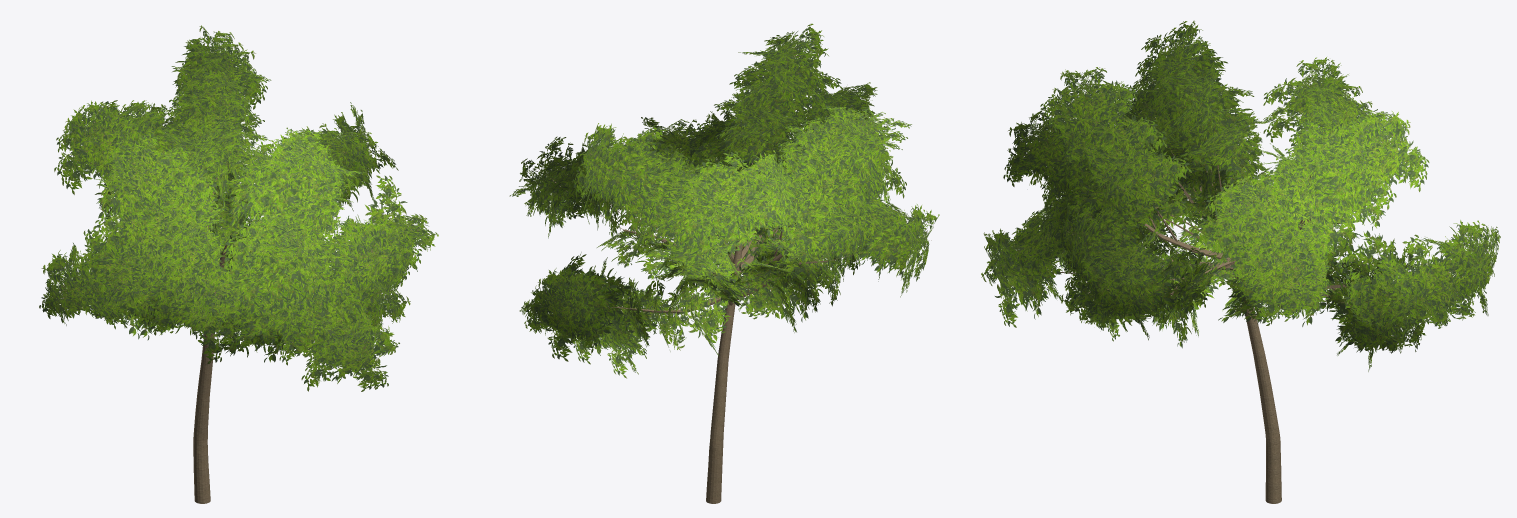
File: Especie1_LOD0.fbx
3 renders of one model, left to right at view 1: azimuth 30°, elevation 25°; view 2: azimuth 150°, elevation 25°; view 3: azimuth 270°, elevation 25°, orthographic. The views are drawn at different scales.
Visible parts, largest first — view 1: FolhasLOD0, Especie1LOD0; view 2: FolhasLOD0, Especie1LOD0; view 3: FolhasLOD0, Especie1LOD0.
Part boxes in pixels (x1=…): FolhasLOD0: x1=39, y1=25, x2=438, y2=391; Especie1LOD0: x1=193, y1=240, x2=332, y2=503; FolhasLOD0: x1=509, y1=23, x2=939, y2=378; Especie1LOD0: x1=623, y1=144, x2=827, y2=503; FolhasLOD0: x1=981, y1=20, x2=1500, y2=371; Especie1LOD0: x1=1104, y1=166, x2=1360, y2=503.
Bounding box in the file's own units: 29.86 × 30.01 × 32.94.
2 materials, 2 textured.
